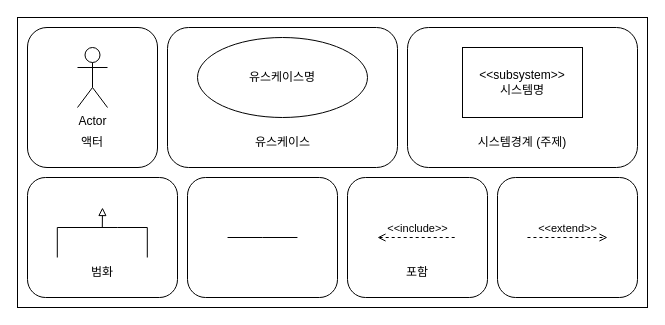
Some shapes in this 665 by 325 pixel diagram are drawn without their labels. Each missing label, with the centre of its shape:
"관련" belongs at (x=262, y=237).
"확장" belongs at (x=567, y=237).
